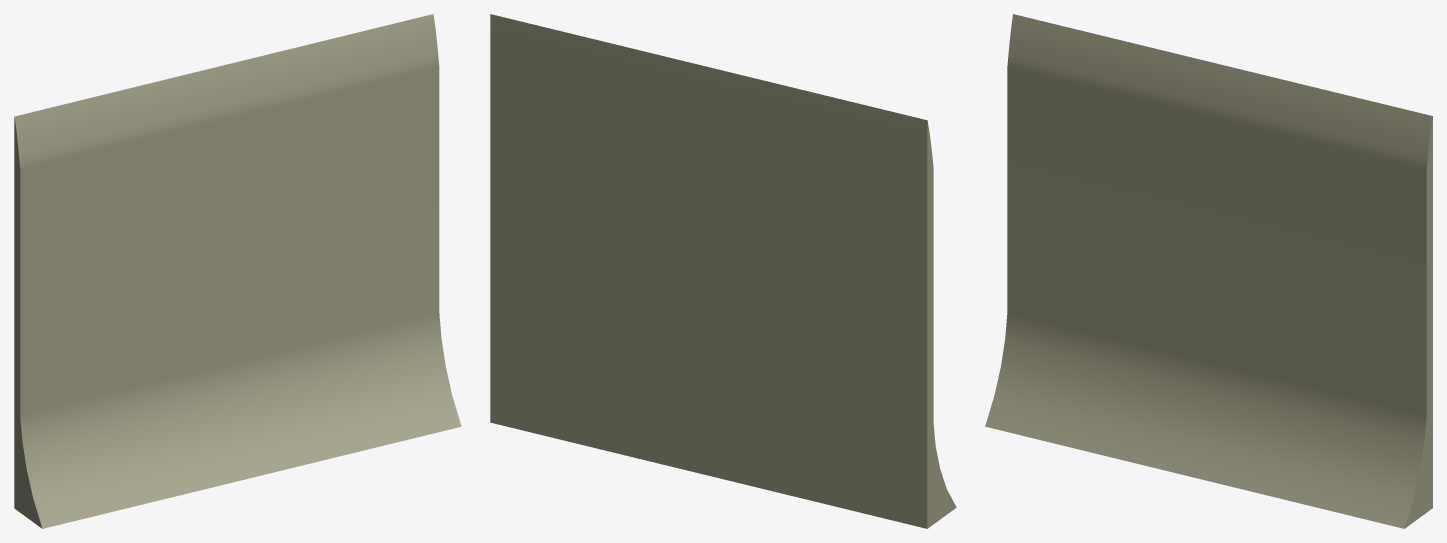
File: WallTransition.fbx
3 renders of one model, left to right at view 1: azimuth 30°, elevation 25°; view 2: azimuth 150°, elevation 25°; view 3: azimuth 330°, elevation 25°, orthographic. The views are drawn at different scales.
Visible parts, largest first — view 1: WallTransition; view 2: WallTransition; view 3: WallTransition.
Boxes of the visible parts, x1=… form: WallTransition: x1=14, y1=14, x2=461, y2=528; WallTransition: x1=490, y1=14, x2=956, y2=528; WallTransition: x1=985, y1=14, x2=1432, y2=528.
Size of the model in its own units: 41.39 by 36.98 by 4.85.
